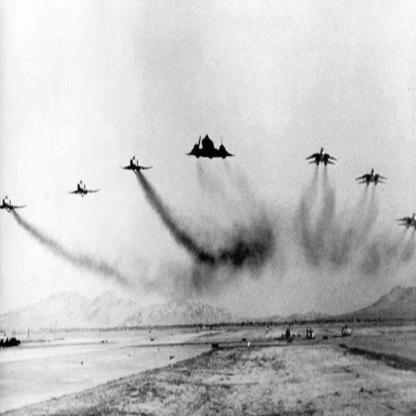F14: (306, 147, 338, 169), (356, 169, 389, 188), (396, 213, 416, 231)
F4: (120, 155, 155, 172), (67, 180, 102, 197), (2, 196, 29, 215)
SR71: (185, 135, 238, 162)
